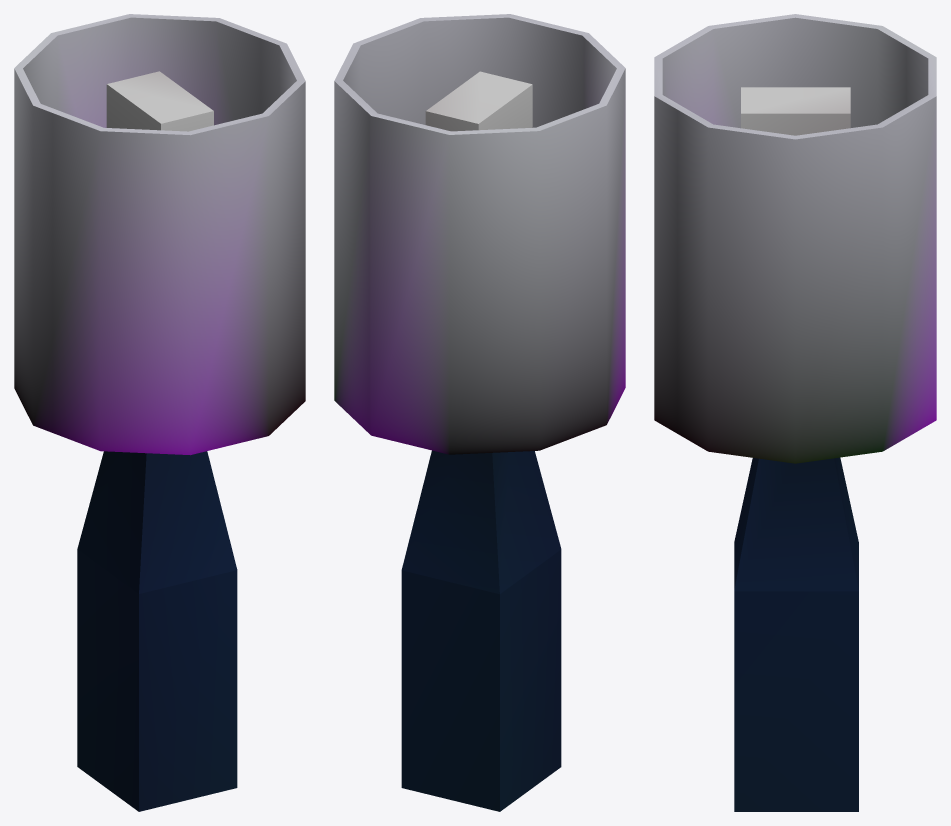
Rendered from tube_shade_lamp 1.FBX.
The picture shows the model from 3 angles, left to right: view 1: azimuth 30°, elevation 25°; view 2: azimuth 150°, elevation 25°; view 3: azimuth 270°, elevation 25°; orthographic projection.
Visible parts, largest first — view 1: shade, tube shade lamp, bulb05; view 2: shade, tube shade lamp, bulb05; view 3: shade, tube shade lamp, bulb05.
Part boxes in pixels (x1,y1,x2,y2): shade: (14, 14, 305, 455); tube shade lamp: (77, 451, 237, 811); bulb05: (106, 71, 213, 131); shade: (334, 14, 625, 454); tube shade lamp: (401, 450, 561, 811); bulb05: (425, 71, 532, 131); shade: (654, 14, 936, 463); tube shade lamp: (734, 457, 858, 811); bulb05: (741, 87, 850, 135).
Bounding box in the file's own units: 0.3588 × 0.9491 × 0.3413.
